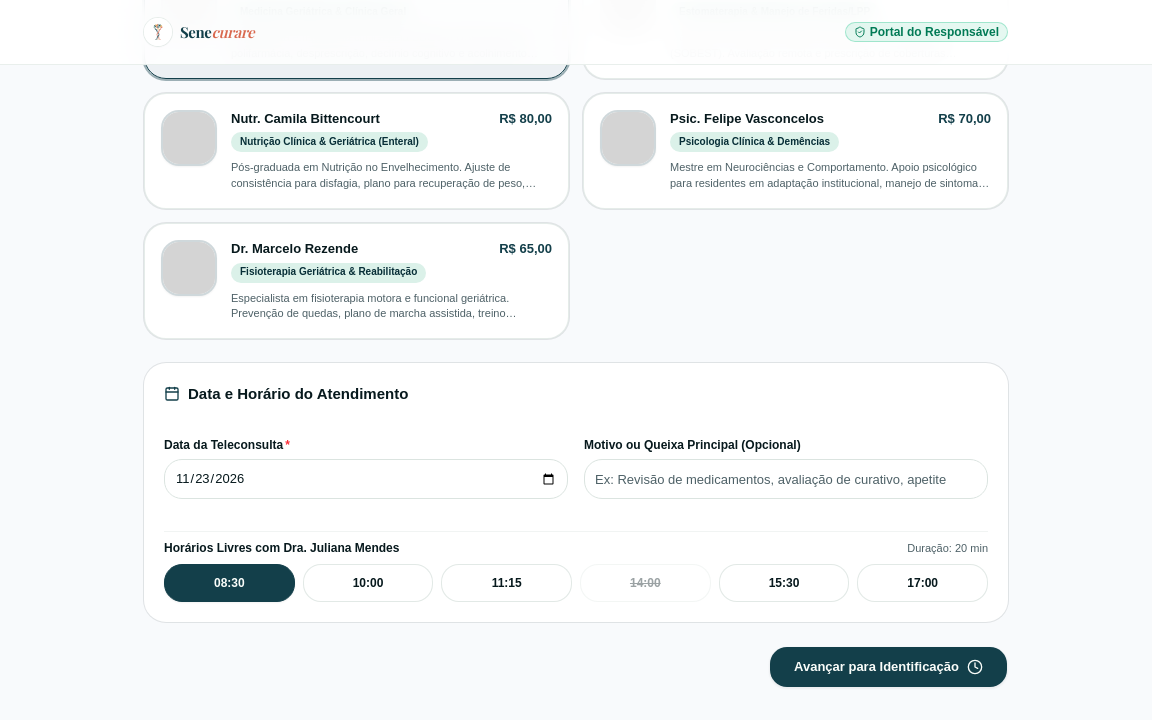
Test case: AgendarFamiliar Page (Portal do Responsável Financeiro) › permite avançar para dados do responsável financeiro e preencher formulário
(page scrolled)
# Avança para a etapa de identificação
Click the button "Avançar para Identificação": click(888, 668) [769,646,1008,688]
(page scrolled)
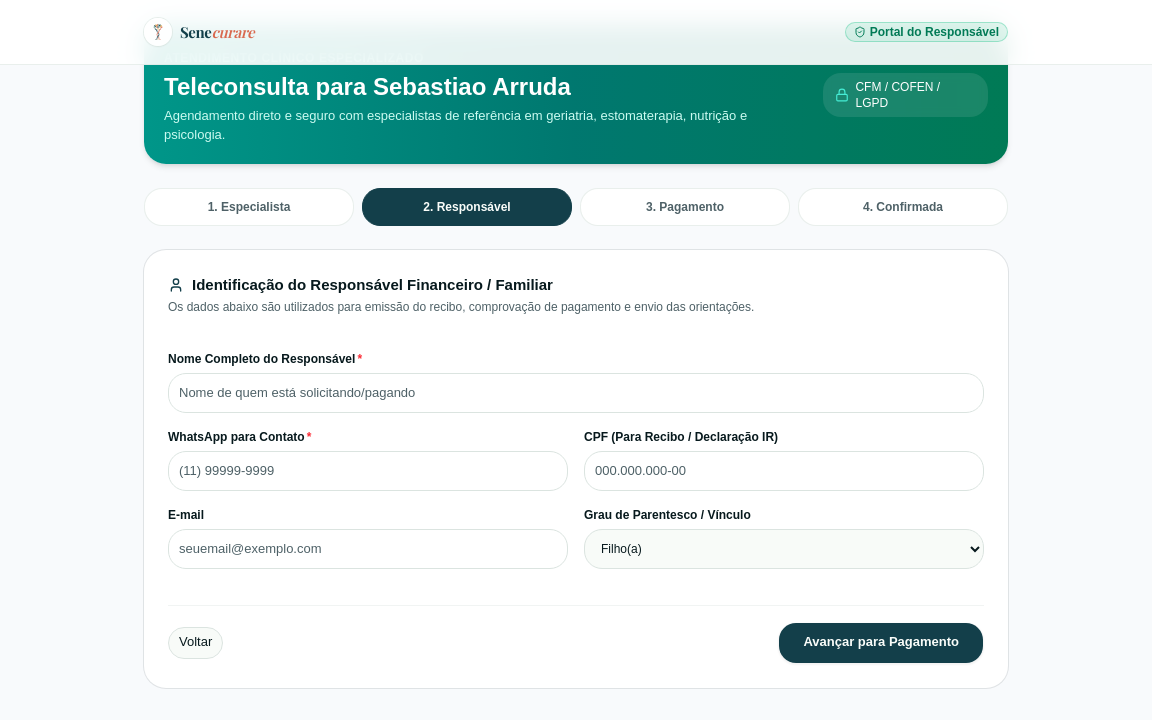
Expected: the heading "Identificação do Responsável Financeiro / Familiar" is shown, [168,276,553,293]
Expected: the field with placeholder "Nome de quem está solicitando/pagando" is shown, [168,373,984,413]
Expected: the field with placeholder "(11) 99999-9999" is shown, [168,451,568,491]
